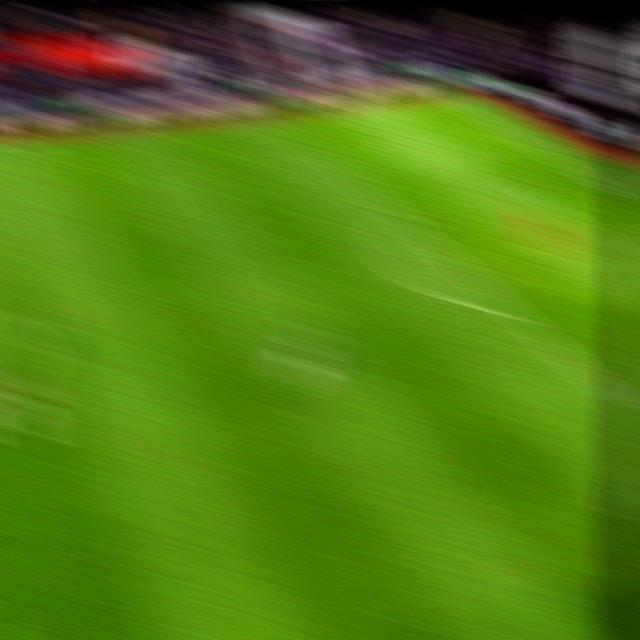bigarea_top_inner: (316, 151, 354, 176)
bigarea_top_outter: (497, 126, 532, 147)
bottom_arc_area_intersection: (494, 299, 533, 327)
corner: (417, 82, 457, 104)
smallarea_top_inner: (511, 180, 549, 202)
smallarea_top_outter: (573, 167, 612, 191)
top_arc_area_intersection: (385, 209, 423, 233)
